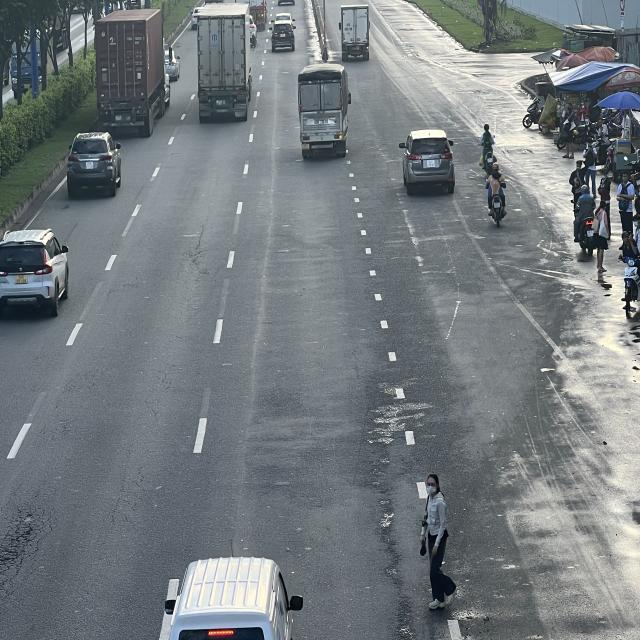car: (0, 230, 68, 318), (399, 129, 455, 194), (66, 133, 121, 199), (269, 19, 296, 54)
container: (96, 6, 177, 136), (193, 3, 255, 122)
truck: (299, 61, 354, 158), (341, 0, 372, 59)
van: (158, 557, 304, 640)
